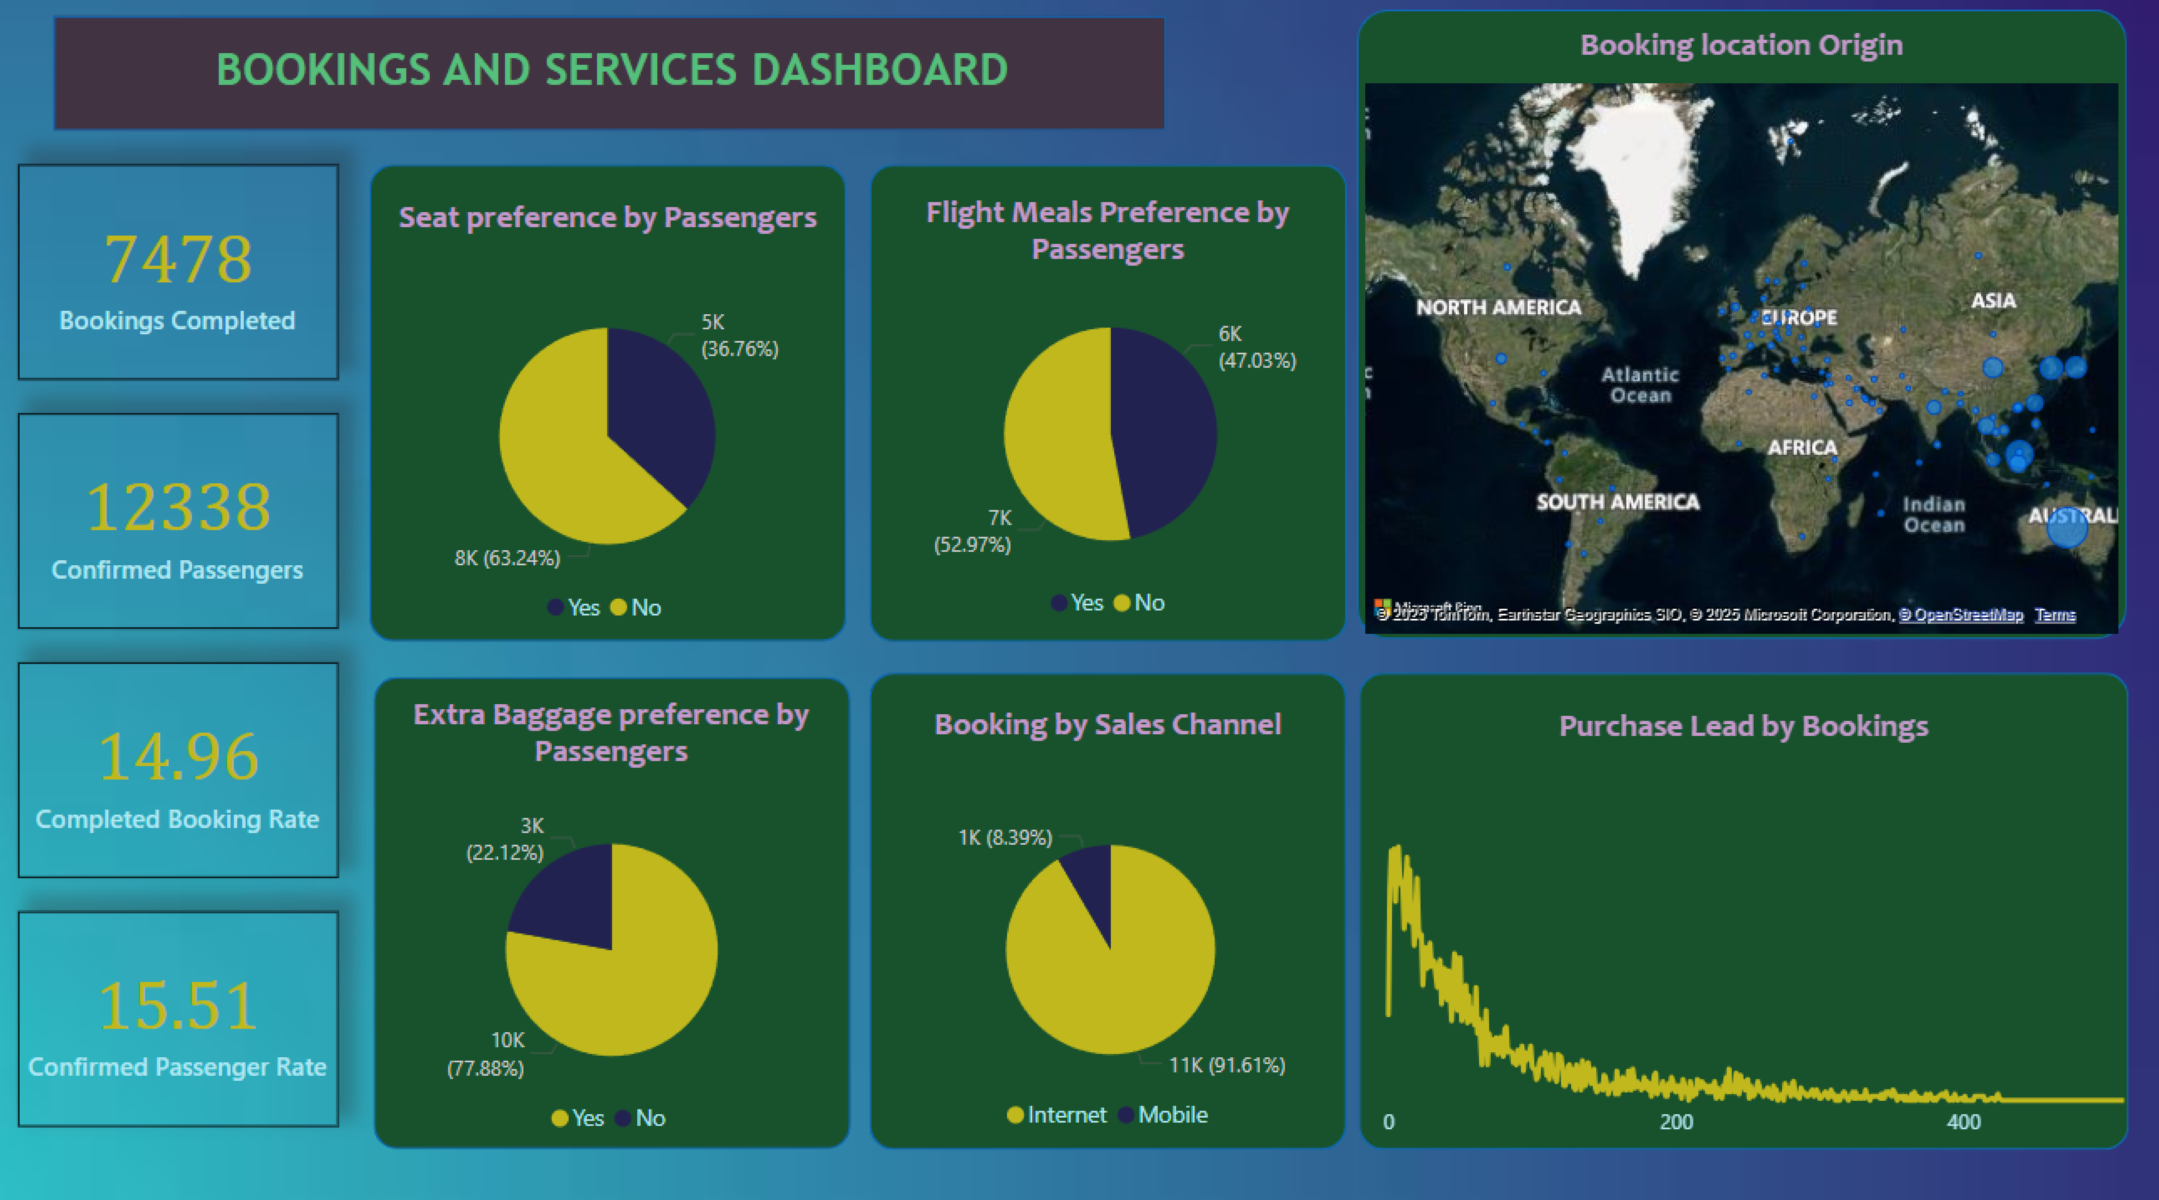

The dashboard page shown, as its layout file describes it:
{"tool":"powerbi","page":{"name":"Bookings and Services Dashboard","canvas":[1280,720],"ordinal":1},"visuals":[{"type":"group","id":"g1","title":"Group 6","box":[40.5,18.4,652.8,67.5],"z":0},{"type":"shape","box":[40.5,18.4,652.8,67.5],"z":0,"group":"g1"},{"type":"shape","box":[225.8,105.5,279.8,279.8],"z":0,"group":"g2"},{"type":"shape","box":[519,105.5,280,280],"z":0,"group":"g3"},{"type":"shape","box":[519,403.7,279.8,279.8],"z":0,"group":"g5"},{"type":"shape","box":[806.1,403.7,451.5,279.8],"z":0,"group":"g6"},{"type":"shape","box":[228.2,406.1,279.8,276.9],"z":0,"group":"g4"},{"type":"pieChart","fields":{"Category":["customer_booking.wants_preferred_seat"],"Y":["customer_booking.Total Passengers"]},"box":[226.1,176,279.8,208.6],"z":1000,"group":"g2"},{"type":"pieChart","fields":{"Category":["customer_booking.wants_in_flight_meals"],"Y":["customer_booking.Total Passengers"]},"box":[522.7,176,276.1,206.1],"z":1000,"group":"g3"},{"type":"card","fields":{"Values":["Airline Booking.Completed Bookings %"]},"box":[19.6,397.5,187.7,126.4],"z":1000},{"type":"lineChart","fields":{"Category":["customer_booking.purchase_lead"],"Y":["customer_booking.Total Bookings"]},"box":[808.4,470.3,451.5,216],"z":1000,"group":"g6"},{"type":"pieChart","fields":{"Category":["customer_booking.wants_extra_baggage"],"Y":["customer_booking.Total Passengers"]},"box":[230.4,478.1,274.8,205.3],"z":1000,"group":"g4"},{"type":"pieChart","fields":{"Y":["customer_booking.Total Passengers"],"Category":["customer_booking.sales_channel"]},"box":[522.7,480.2,276.1,202.5],"z":1000,"group":"g5"},{"type":"textbox","box":[63.8,29.4,608.6,44.2],"z":2000,"group":"g1"},{"type":"card","fields":{"Values":["Airline Booking.Total Bookings"]},"box":[19.6,105.5,187.7,126.4],"z":2000},{"type":"textbox","box":[519,116.5,279.8,56.4],"z":2000,"group":"g3"},{"type":"textbox","box":[231,120.8,269.9,41.7],"z":2000,"group":"g2"},{"type":"textbox","box":[228,410.8,278.5,56.4],"z":2000,"group":"g4"},{"type":"textbox","box":[519,417.2,279.8,44.2],"z":2000,"group":"g5"},{"type":"textbox","box":[806.1,418.4,451.5,42.9],"z":2000,"group":"g6"},{"type":"card","fields":{"Values":["Airline Booking.Total Passengers"]},"box":[19.6,251.5,187.7,126.4],"z":3000},{"type":"card","fields":{"Values":["Airline Booking.Booked Seats %"]},"box":[19.6,543.6,187.7,126.4],"z":4000},{"type":"shape","box":[804.9,14.7,451.5,369.3],"z":5000},{"type":"map","fields":{"Size":["CountNonNull(customer_booking.num_passengers)"],"Category":["customer_booking.booking_origin"]},"box":[804.9,52.8,451.5,332.5],"z":6000},{"type":"textbox","box":[804.9,18.4,451.5,34.4],"z":7000},{"type":"group","id":"g2","title":"Group 1","box":[225.8,105.5,280,279.8],"z":8000},{"type":"group","id":"g3","title":"Group 2","box":[519,105.5,280,280],"z":9000},{"type":"group","id":"g4","title":"Group 3","box":[228,406.1,280,277.3],"z":10000},{"type":"group","id":"g5","title":"Group 4","box":[519,403.7,279.8,279.8],"z":11000},{"type":"group","id":"g6","title":"Group 5","box":[806.1,403.7,453.8,282.6],"z":12000}]}

Visuals, with their boxes in screenshot pixels (x1, y1, x2, y2), scaled from the page's 1280x720 canvas onto the 2159x1200 screenshot:
"Group 6" group: [x1=68, y1=31, x2=1169, y2=143]
shape: [x1=68, y1=31, x2=1169, y2=143]
shape: [x1=381, y1=176, x2=853, y2=642]
shape: [x1=875, y1=176, x2=1348, y2=642]
shape: [x1=875, y1=673, x2=1347, y2=1139]
shape: [x1=1360, y1=673, x2=2121, y2=1139]
shape: [x1=385, y1=677, x2=857, y2=1138]
pieChart - customer_booking.wants_preferred_seat x customer_booking.Total Passengers: [x1=381, y1=293, x2=853, y2=641]
pieChart - customer_booking.wants_in_flight_meals x customer_booking.Total Passengers: [x1=882, y1=293, x2=1347, y2=637]
card - Airline Booking.Completed Bookings %: [x1=33, y1=662, x2=350, y2=873]
lineChart - customer_booking.purchase_lead x customer_booking.Total Bookings: [x1=1364, y1=784, x2=2125, y2=1144]
pieChart - customer_booking.wants_extra_baggage x customer_booking.Total Passengers: [x1=389, y1=797, x2=852, y2=1139]
pieChart - customer_booking.Total Passengers x customer_booking.sales_channel: [x1=882, y1=800, x2=1347, y2=1138]
textbox: [x1=108, y1=49, x2=1134, y2=123]
card - Airline Booking.Total Bookings: [x1=33, y1=176, x2=350, y2=386]
textbox: [x1=875, y1=194, x2=1347, y2=288]
textbox: [x1=390, y1=201, x2=845, y2=271]
textbox: [x1=385, y1=685, x2=854, y2=779]
textbox: [x1=875, y1=695, x2=1347, y2=769]
textbox: [x1=1360, y1=697, x2=2121, y2=769]
card - Airline Booking.Total Passengers: [x1=33, y1=419, x2=350, y2=630]
card - Airline Booking.Booked Seats %: [x1=33, y1=906, x2=350, y2=1117]
shape: [x1=1358, y1=24, x2=2119, y2=640]
map - CountNonNull(customer_booking.num_passengers) x customer_booking.booking_origin: [x1=1358, y1=88, x2=2119, y2=642]
textbox: [x1=1358, y1=31, x2=2119, y2=88]
"Group 1" group: [x1=381, y1=176, x2=853, y2=642]
"Group 2" group: [x1=875, y1=176, x2=1348, y2=642]
"Group 3" group: [x1=385, y1=677, x2=857, y2=1139]
"Group 4" group: [x1=875, y1=673, x2=1347, y2=1139]
"Group 5" group: [x1=1360, y1=673, x2=2125, y2=1144]
